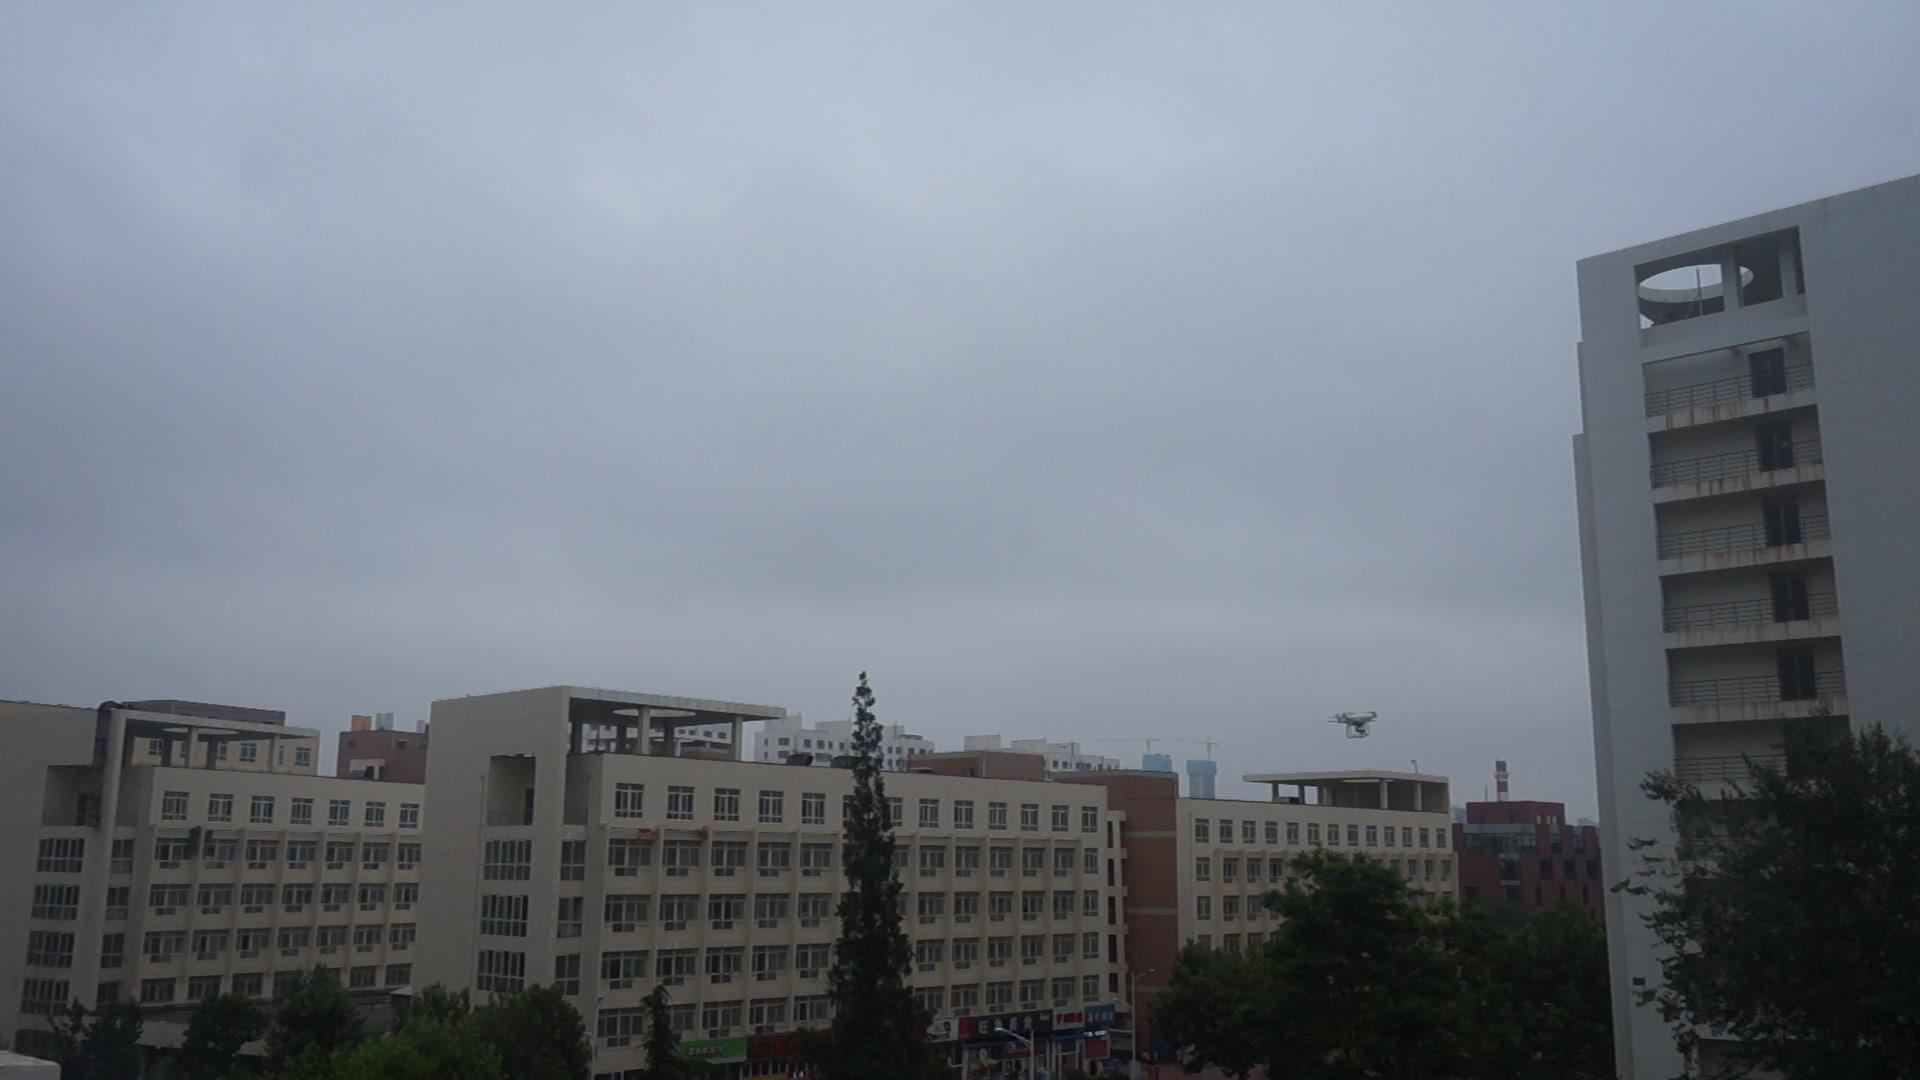UAV: (1329, 712, 1378, 738)
